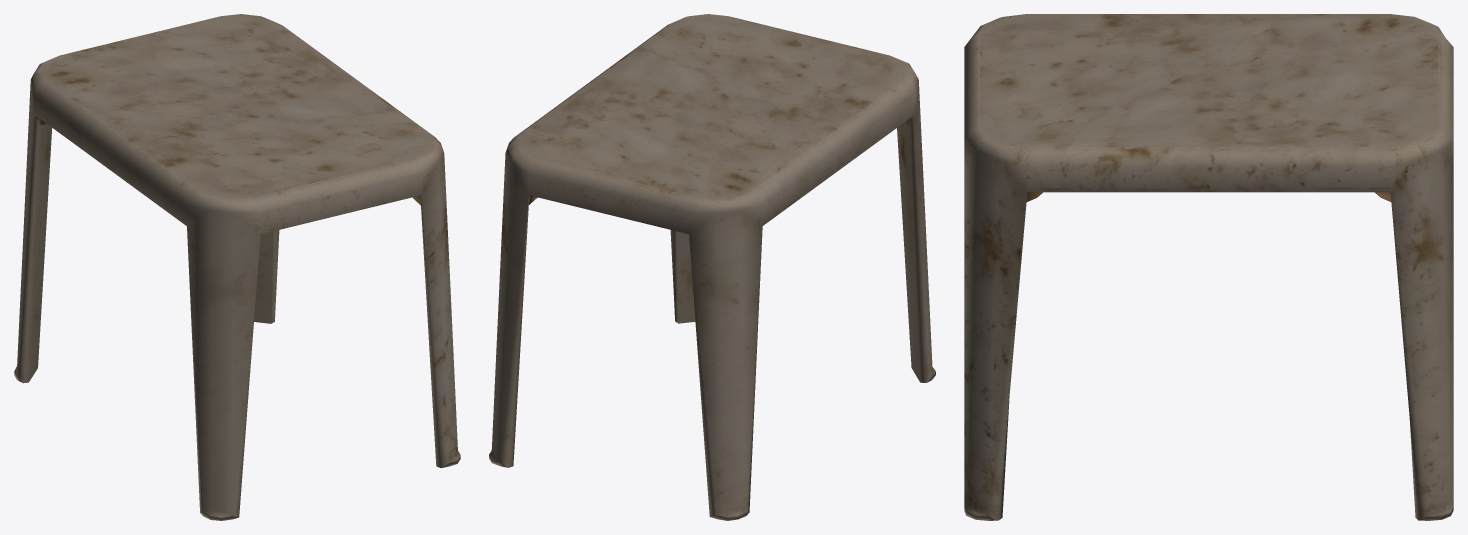
File: Tabletop.fbx
3 renders of one model, left to right at view 1: azimuth 30°, elevation 25°; view 2: azimuth 150°, elevation 25°; view 3: azimuth 270°, elevation 25°, orthographic. The views are drawn at different scales.
Parts seen in each view (by area): view 1: tripo_node_c84f9e85-1020-45ea-a856-b22d33430506; view 2: tripo_node_c84f9e85-1020-45ea-a856-b22d33430506; view 3: tripo_node_c84f9e85-1020-45ea-a856-b22d33430506.
Boxes of the visible parts, <box> form: tripo_node_c84f9e85-1020-45ea-a856-b22d33430506: <box>14,14,460,520</box>; tripo_node_c84f9e85-1020-45ea-a856-b22d33430506: <box>489,14,935,520</box>; tripo_node_c84f9e85-1020-45ea-a856-b22d33430506: <box>964,14,1453,520</box>.
Bounding box in the file's own units: 70.9 × 82.62 × 99.8.
Materials: 1 (1 with a texture image).
